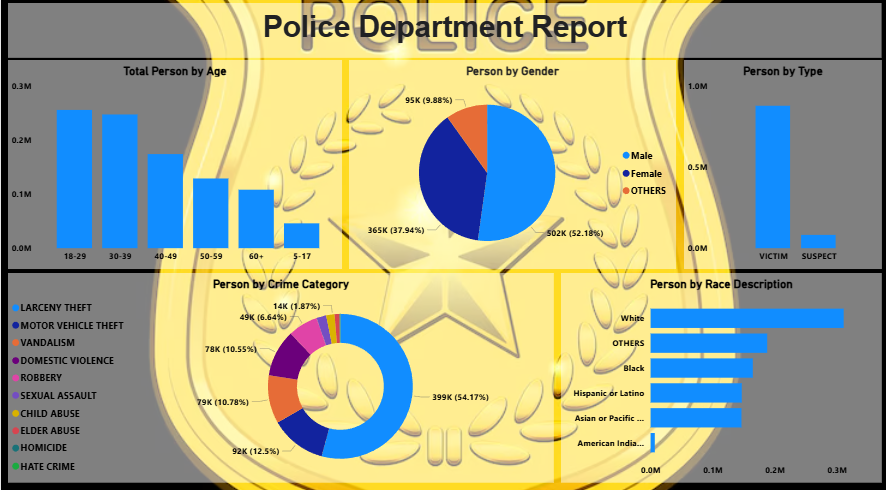

Layout of this report page (visuals, bound fields, positions):
{"tool":"powerbi","page":{"name":"Page 1","canvas":[1280,720],"ordinal":0},"visuals":[{"type":"textbox","box":[10.1,11.8,1258.2,79],"z":0},{"type":"pieChart","title":"Person by Gender","fields":{"Category":["Police_Department_Reported new.person_sex_description"],"Y":["Sum(Police_Department_Reported new.person_count)"]},"box":[501.1,93.6,470.9,301],"z":1000},{"type":"clusteredColumnChart","title":"Total Person by Age","fields":{"Category":["Police_Department_Reported new.age_range.1"],"Y":["Sum(Police_Department_Reported new.person_count)"]},"box":[10.1,93.6,481,301],"z":2000},{"type":"clusteredBarChart","title":"Person by Race Description","fields":{"Category":["Police_Department_Reported new.person_race_description"],"Y":["Sum(Police_Department_Reported new.person_count)"]},"box":[806.4,400.3,462.2,302.4],"z":3000},{"type":"columnChart","title":"Person by Type","fields":{"Category":["Police_Department_Reported new.person_type"],"Y":["Sum(Police_Department_Reported new.person_count)"]},"box":[983.5,93.6,285.1,301],"z":4000},{"type":"donutChart","title":"Person by Crime Category","fields":{"Category":["Police_Department_Reported new.person_crime_category"],"Y":["Sum(Police_Department_Reported new.person_count)"]},"box":[10.1,400.3,786.2,302.4],"z":5000}]}

Visuals, with their boxes in screenshot pixels (x1, y1, x2, y2), scaled from the page's 1280x720 canvas onto the 886x490 screenshot:
textbox: (7,8,878,62)
"Person by Gender" pieChart: (347,64,673,269)
"Total Person by Age" clusteredColumnChart: (7,64,340,269)
"Person by Race Description" clusteredBarChart: (558,272,878,478)
"Person by Type" columnChart: (681,64,878,269)
"Person by Crime Category" donutChart: (7,272,551,478)
